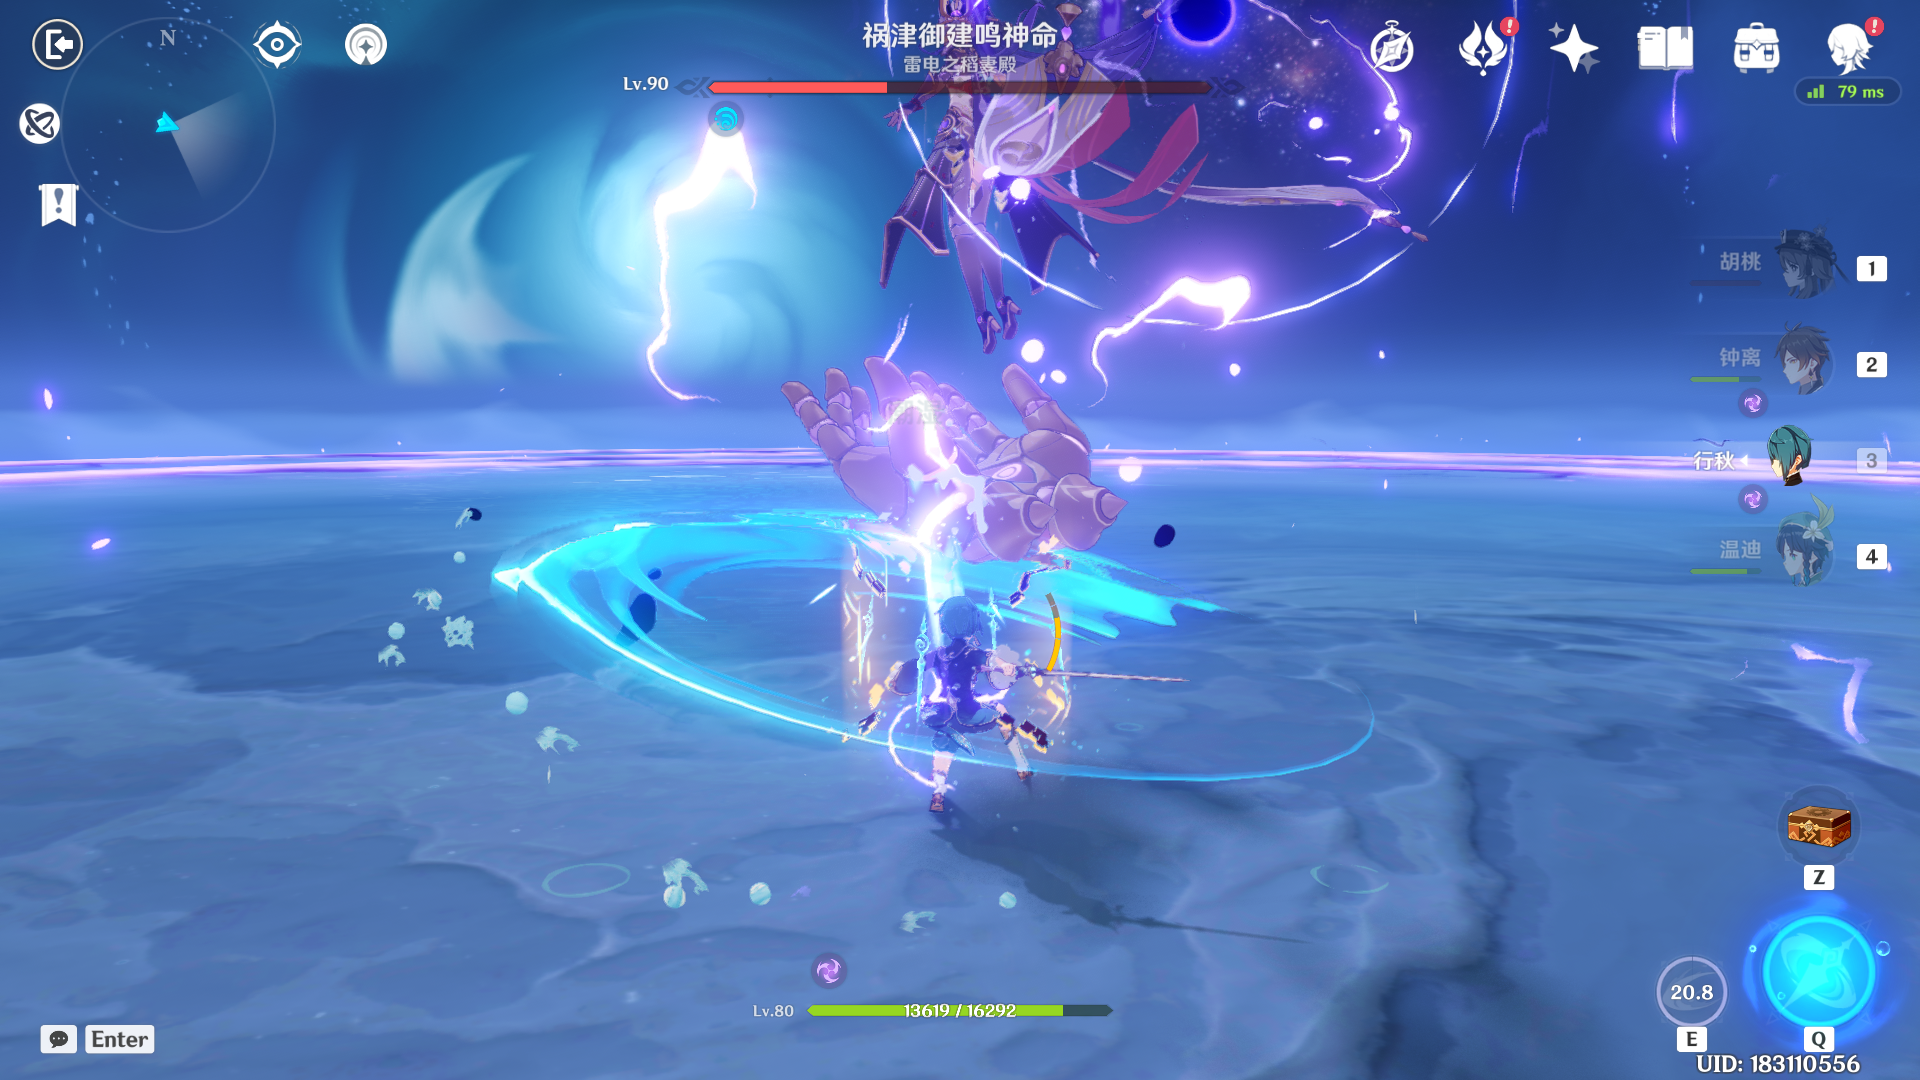character: (837, 584, 1062, 866)
